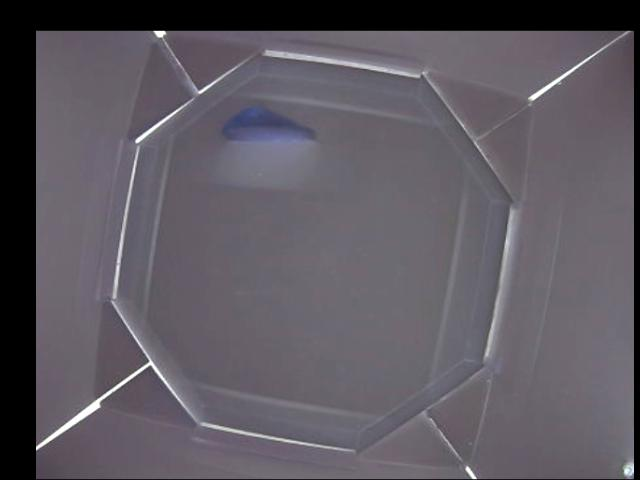Mooli: (223, 104, 316, 144)
